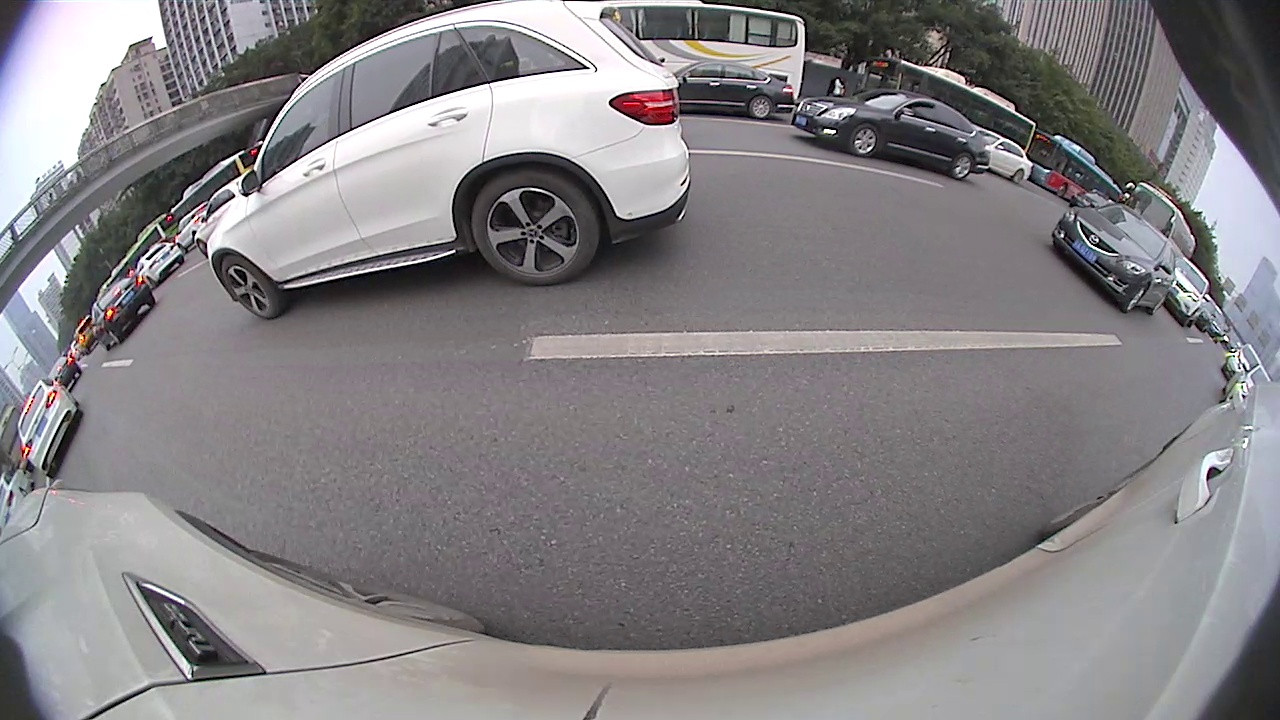bus: (592, 3, 804, 105), (859, 54, 1037, 161), (1028, 127, 1123, 209), (1125, 180, 1198, 263)
car: (204, 4, 693, 324), (787, 85, 993, 182), (1051, 202, 1179, 313), (661, 59, 795, 119), (16, 378, 83, 477), (88, 275, 157, 352), (966, 126, 1032, 183), (1164, 252, 1211, 331), (131, 242, 187, 278), (45, 355, 82, 389)
front: (220, 255, 280, 320), (851, 124, 877, 157), (1123, 283, 1146, 314)
rear: (473, 172, 594, 282), (952, 152, 971, 179), (750, 95, 771, 118), (1013, 169, 1024, 184)
